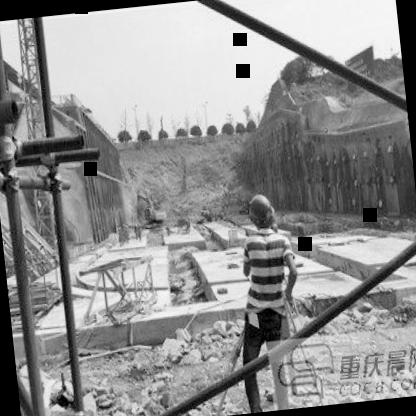helmet: (245, 190, 278, 234)
